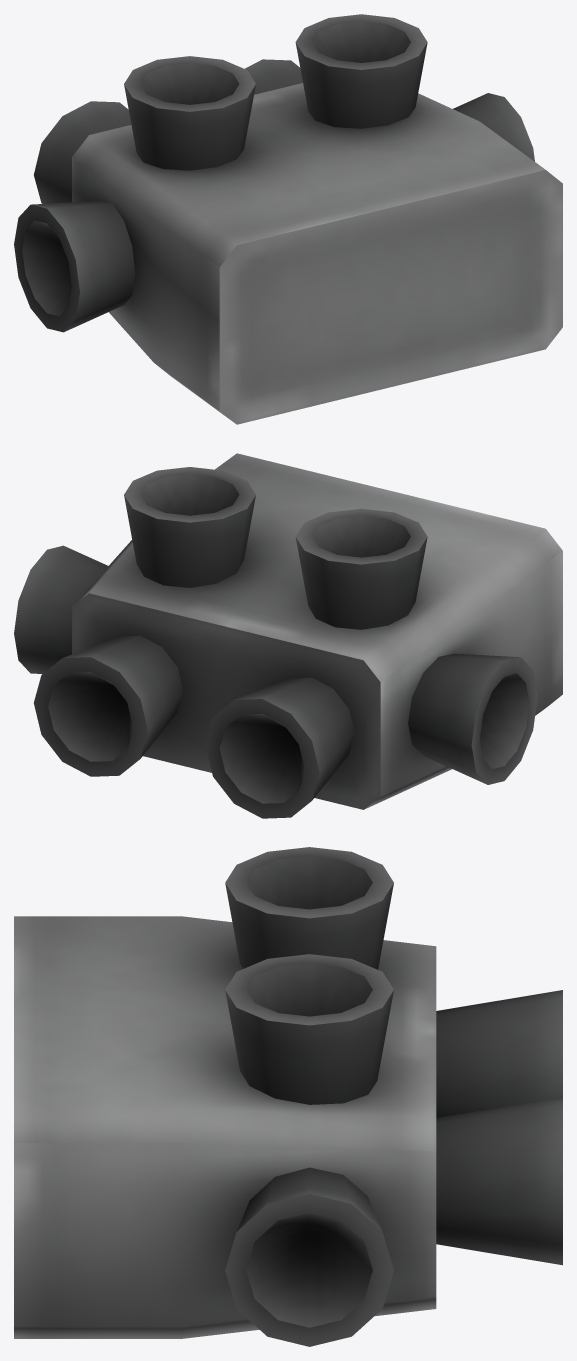
File: octans_moe_srf_3_extended.obj
3 renders of one model, top to bottom at view 1: azimuth 30°, elevation 25°; view 2: azimuth 150°, elevation 25°; view 3: azimuth 270°, elevation 25°, orthographic. The views are drawn at different scales.
Parts seen in each view (by area): view 1: mesh; view 2: mesh; view 3: mesh.
Part boxes in pixels (left/top/right/bottom): mesh: left=14, top=14, right=562, bottom=424; mesh: left=14, top=453, right=562, bottom=818; mesh: left=14, top=847, right=562, bottom=1346.
Size of the model in its own units: 0.2 by 0.1 by 0.1625.
1 material, 1 textured.
